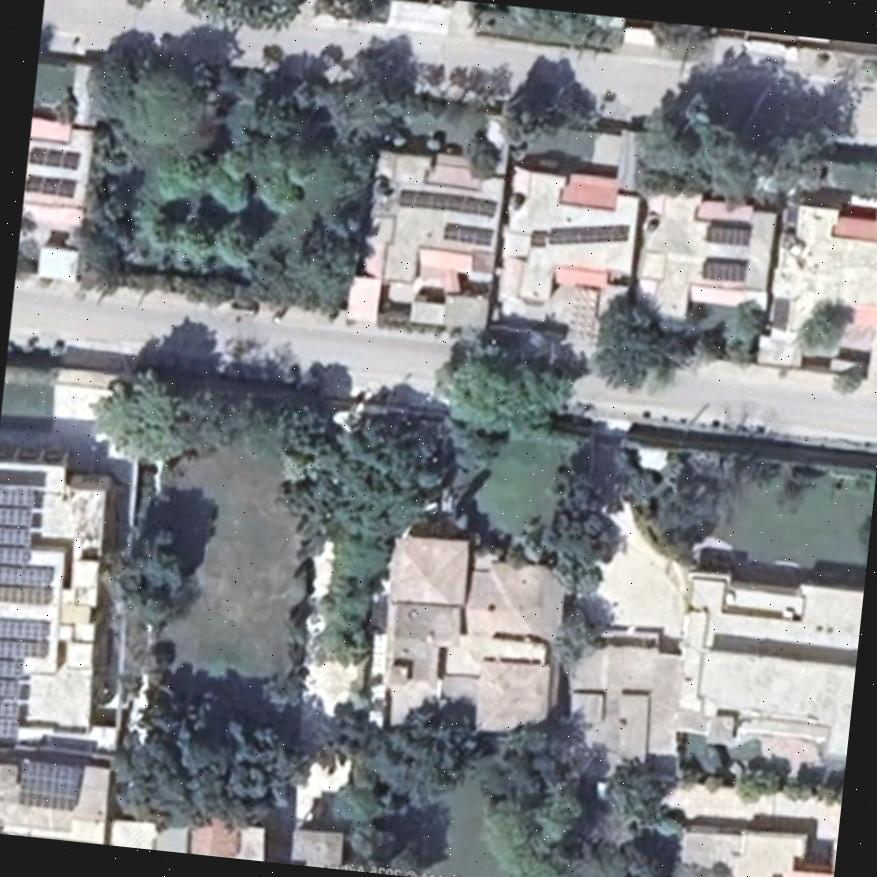Solarpanel: (18, 763, 79, 810), (0, 486, 33, 565), (400, 189, 493, 213), (0, 617, 48, 657), (531, 224, 627, 244), (0, 656, 21, 736), (0, 566, 48, 598), (28, 173, 77, 196), (701, 259, 746, 280), (29, 148, 77, 166), (443, 223, 490, 241), (709, 227, 747, 244)
